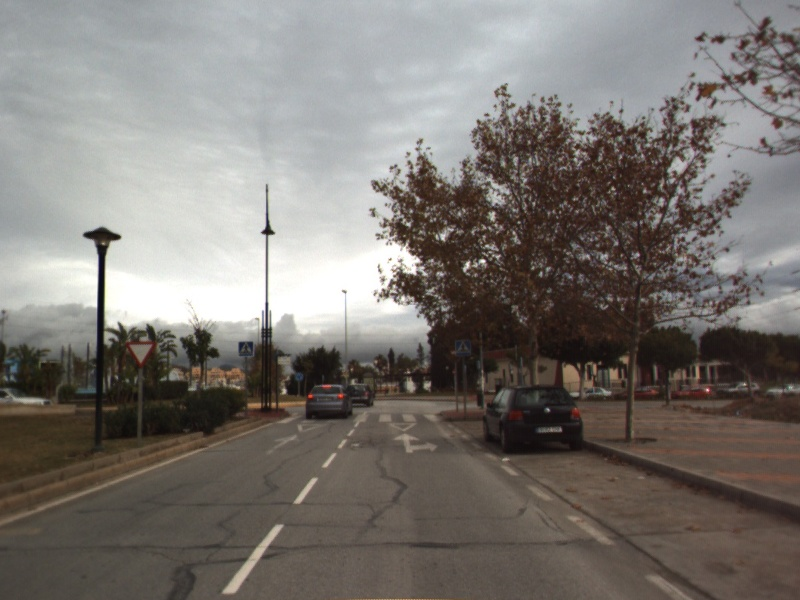STRAIGHT: (263, 432, 303, 457)
STRAIGHT_RIGHT: (390, 431, 441, 455)
